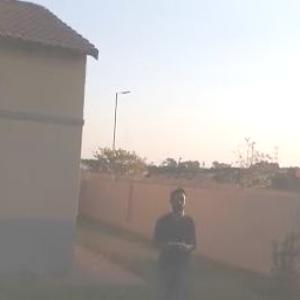follow: (148, 177, 208, 299)
